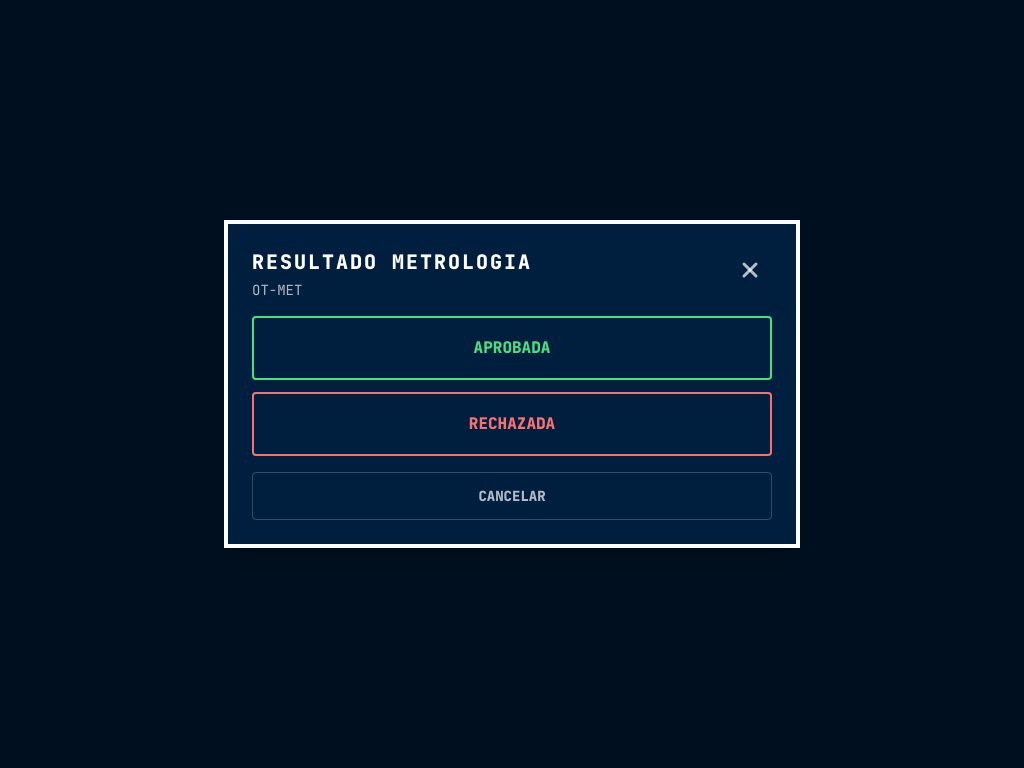
Test: MetrologiaModal — step 2: worker selection › transitions to worker selection after clicking RECHAZADA
The image size is (1024, 768).
Click the button "RECHAZADA". click: (512, 424)
box: left=252, top=392, right=772, bottom=456
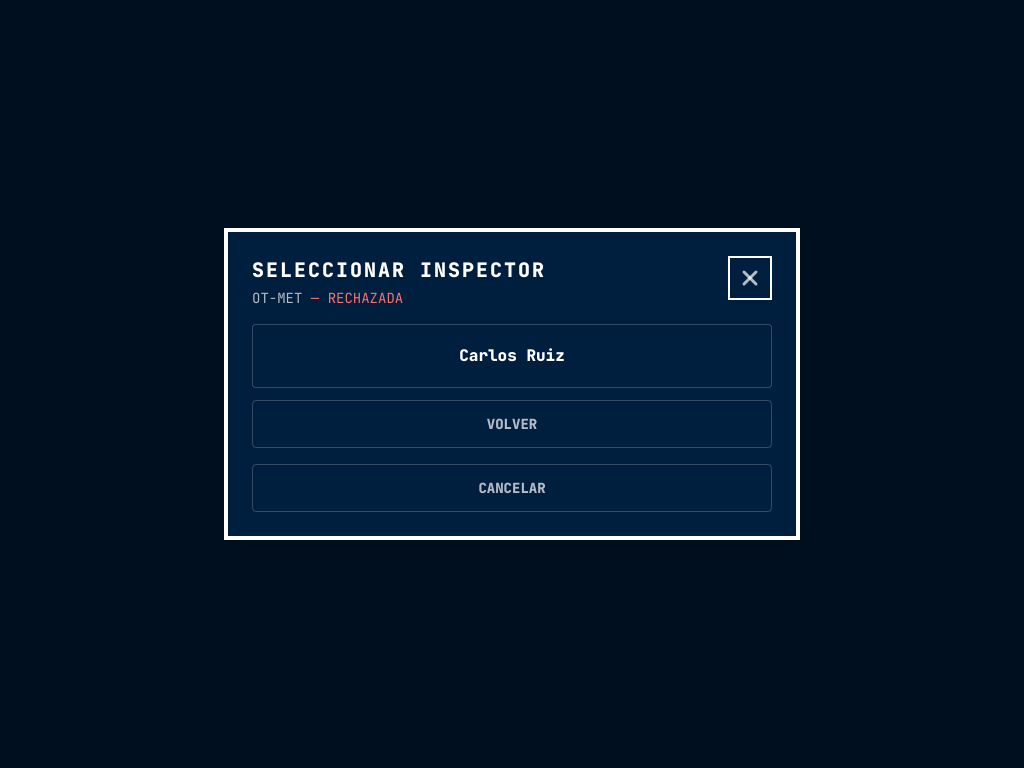
Expected: the heading "SELECCIONAR INSPECTOR" is shown, left=252, top=256, right=546, bottom=284
